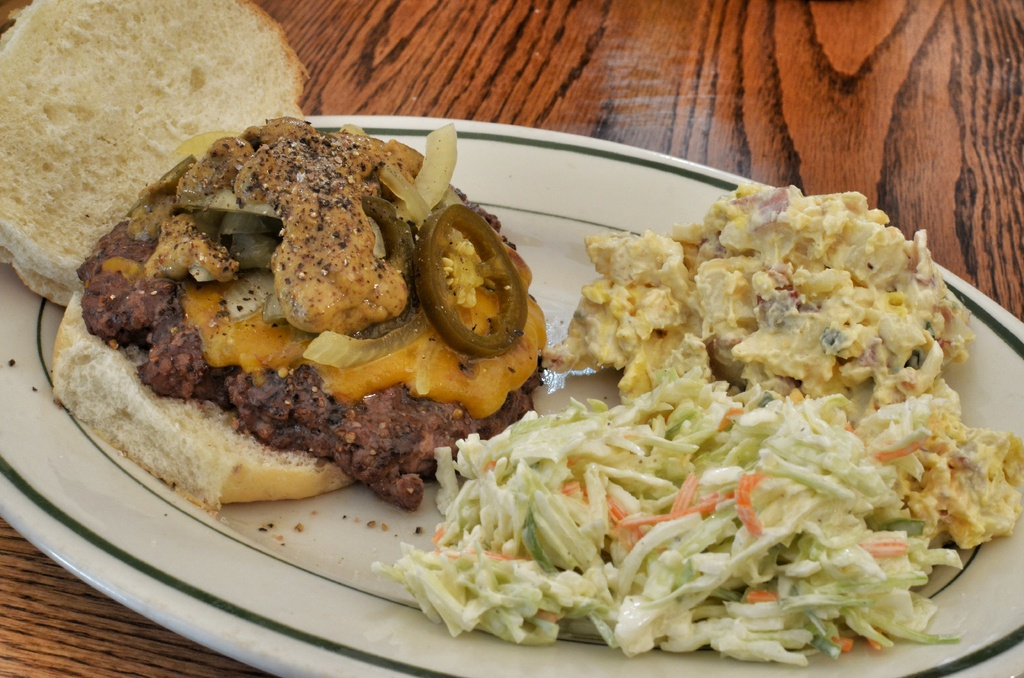Hamburger: (0, 0, 544, 512)
